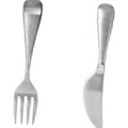Fork: (12, 1, 48, 128)
